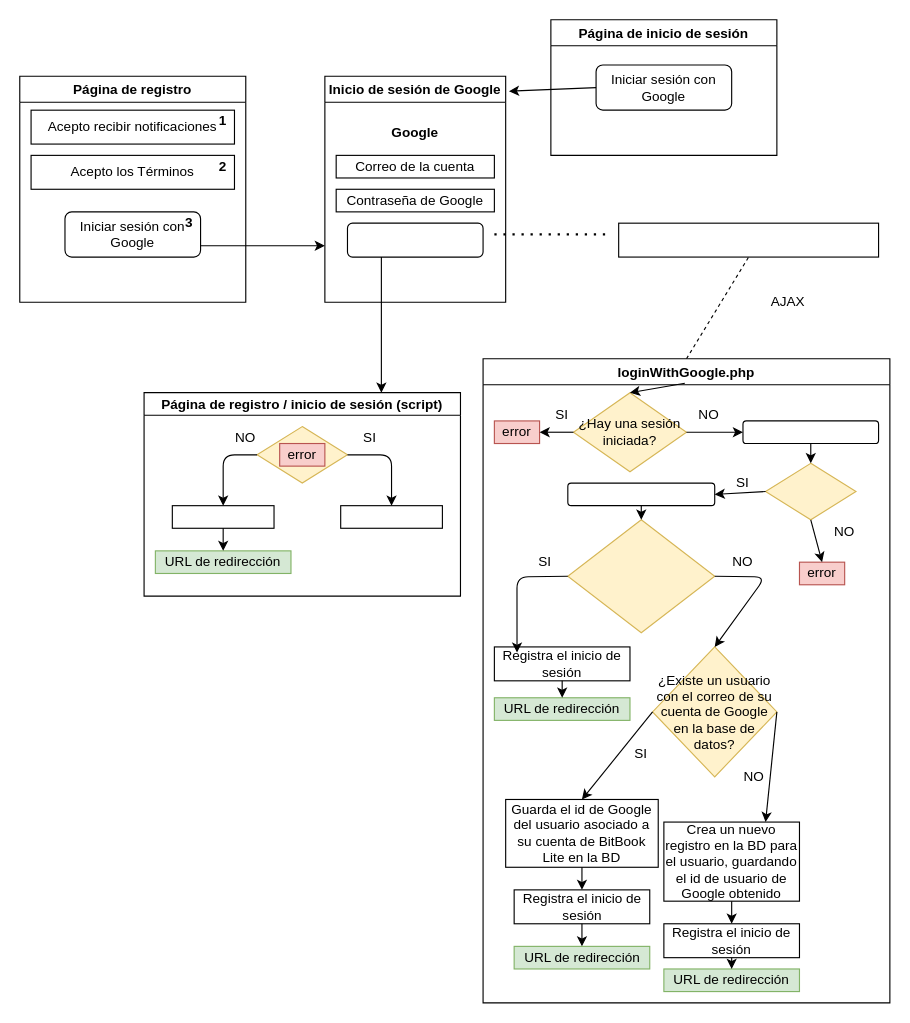
This 910x1023 diagram has some shape labels left out. The centre of each missing label's shape, as x and y in pixels:
"googleUser.getAuthResponse().id_token" goes at pixel 748 239.
"Información del usuario" goes at pixel 641 494.
"Iniciar sesión" goes at pixel 414 239.
"Notificar error." goes at pixel 391 516.
"Obtener id_token" goes at pixel 810 432.
"Redirigir a:" goes at pixel 222 516.
"¿Es válido?" goes at pixel 810 491.
"¿Existe el sub (id de usuario en la base de datos)?" goes at pixel 641 576.
